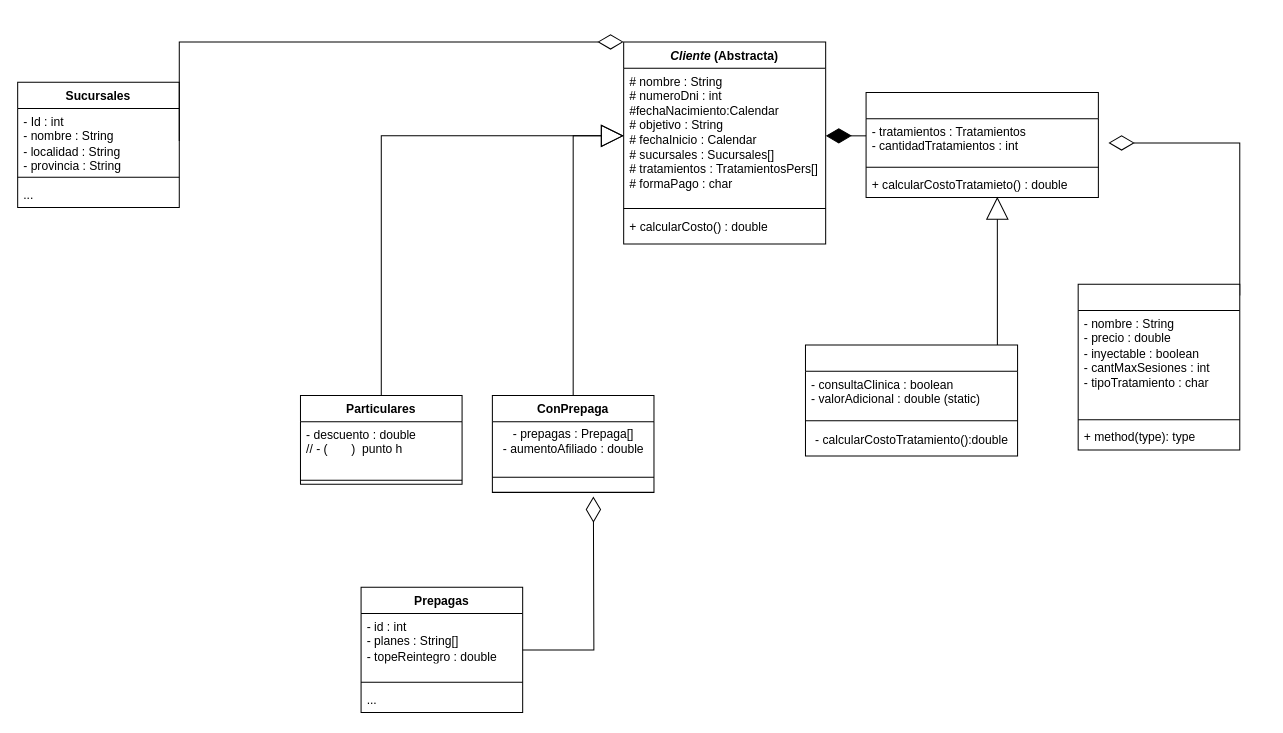
The diagram is 1283 pixels wide and 733 high, and some of its shapes have lost their labels. The shapes that lost their labels are listed below. From the top down, each one's box as (x1, y1, x2, y2) in pixels, then its label:
(865, 91, 1098, 197): TratamientosPersonales
(1077, 283, 1240, 450): Tratamientos
(804, 344, 1018, 456): Salud
